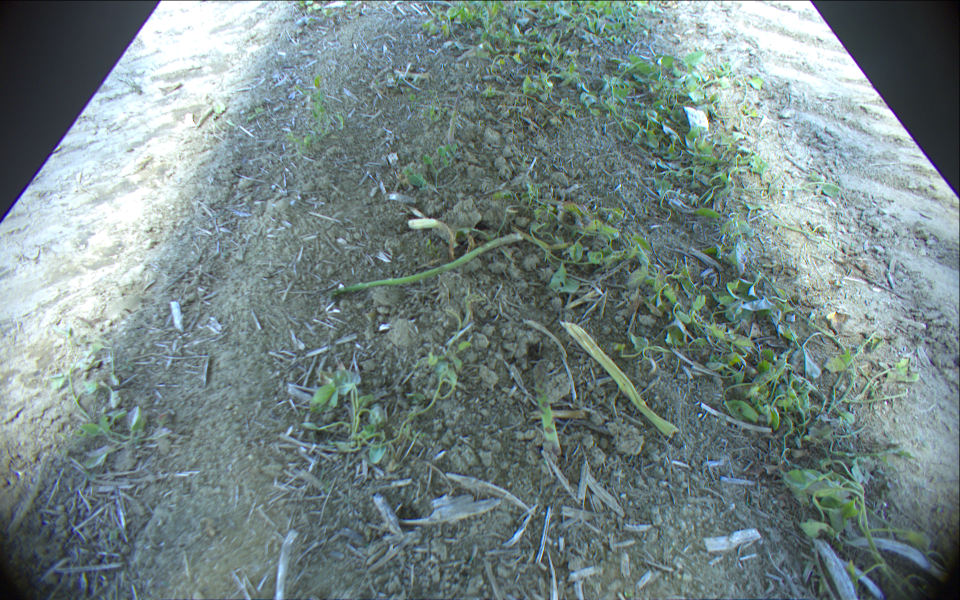aspa: (567, 319, 677, 435), (331, 232, 524, 294), (532, 359, 560, 453)
